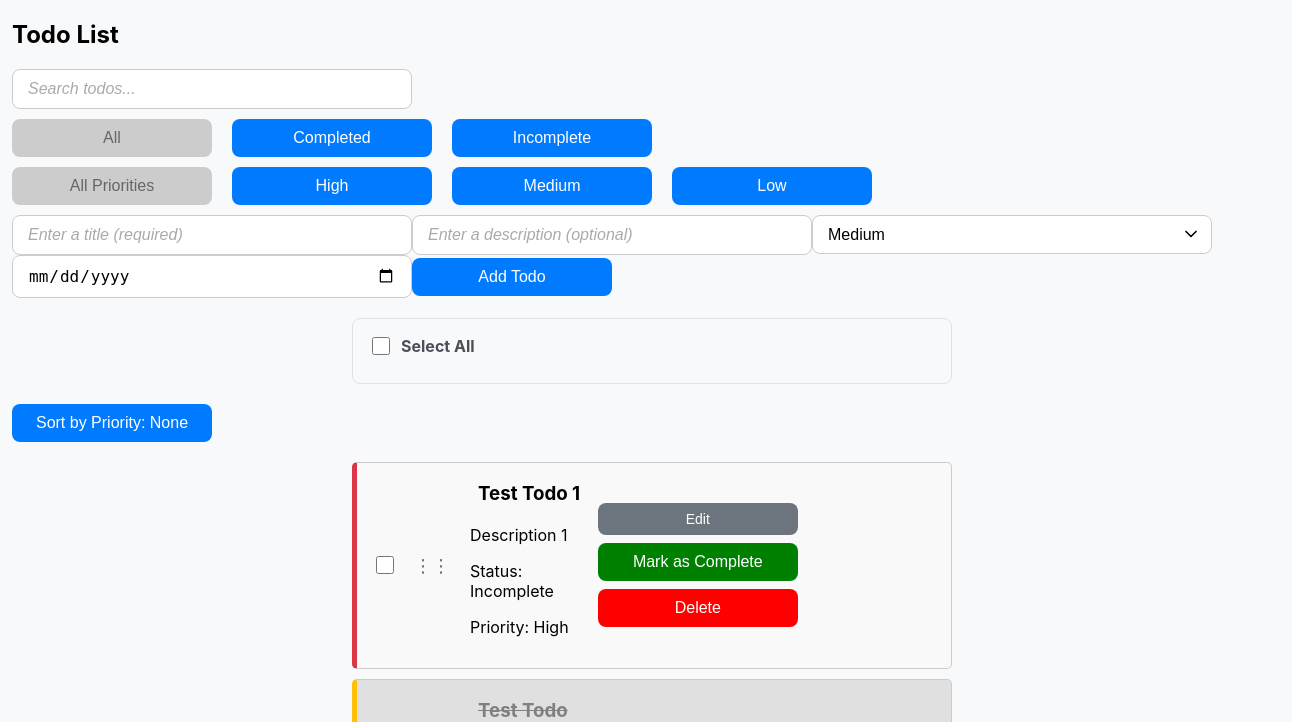
it: TodoList Component › Todo追加 › タイトルが空の場合、エラーメッセージが表示される
Check: the heading "Test Todo 1" is shown, box [478,482,580,505]
Click the button "Add Todo" at coordinates (512, 277), box [412,258,612,296]
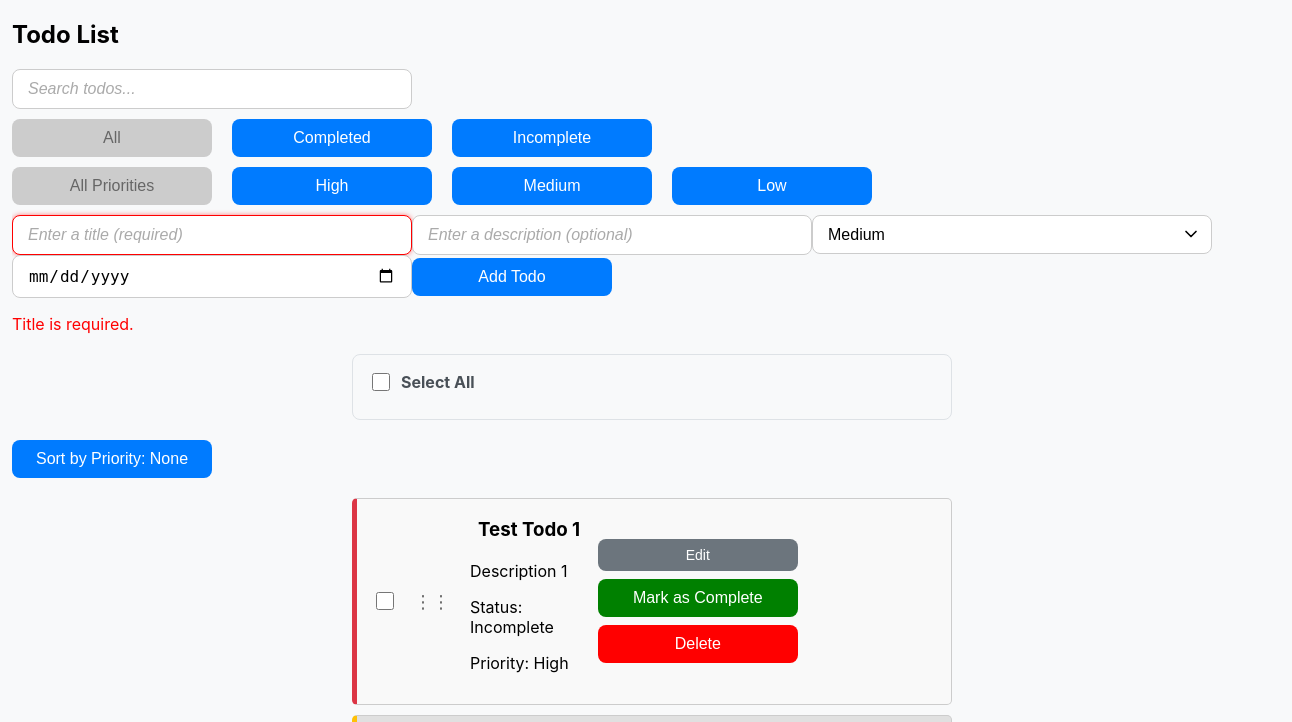
Check: the text "Title is required." is shown, box [12,314,134,334]
